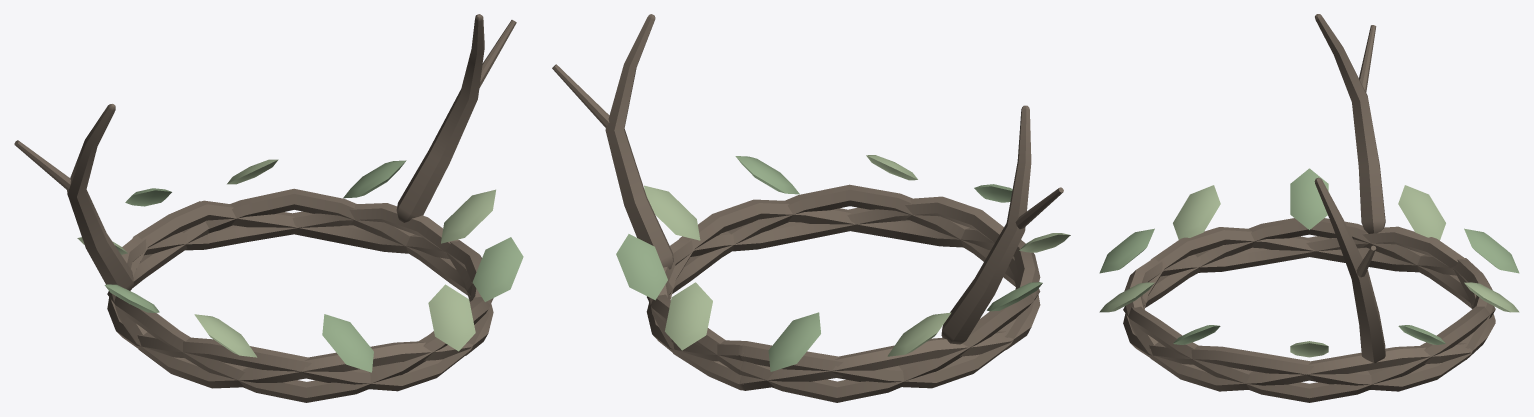
The model's file is trophy_root_circlet.gltf.
3 renders of one model, left to right at view 1: azimuth 30°, elevation 25°; view 2: azimuth 150°, elevation 25°; view 3: azimuth 270°, elevation 25°, orthographic. The views are drawn at different scales.
Parts seen in each view (by area): view 1: Body; view 2: Body; view 3: Body.
Part boxes in pixels (box(x1,y1,x2,y2)): Body: box(14, 14, 523, 402); Body: box(552, 14, 1070, 402); Body: box(1099, 14, 1519, 402).
Bounding box in the file's own units: 0.3847 × 0.1894 × 0.3055.
